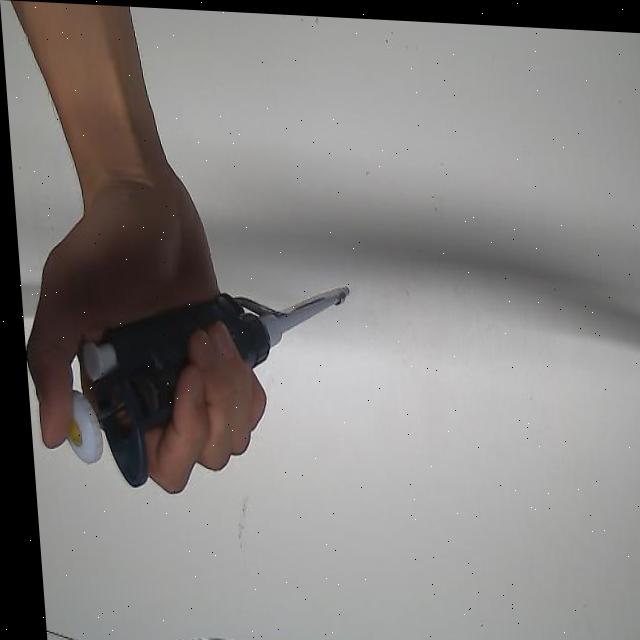Single Channel Pipettor: (36, 265, 374, 501)
